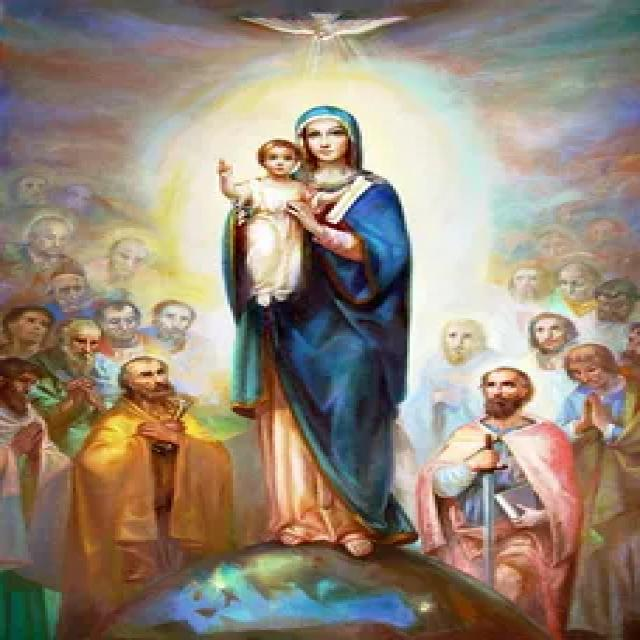mother of god: (189, 100, 434, 563)
